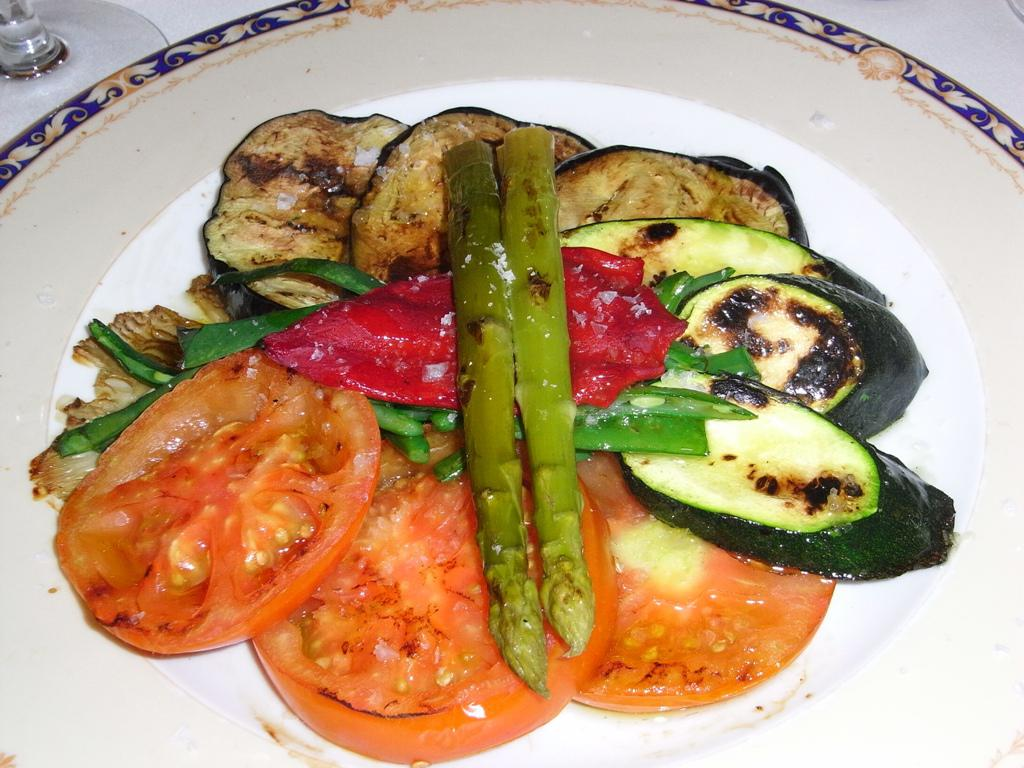Tomato: (248, 424, 618, 765), (78, 365, 352, 639), (570, 453, 844, 712)
